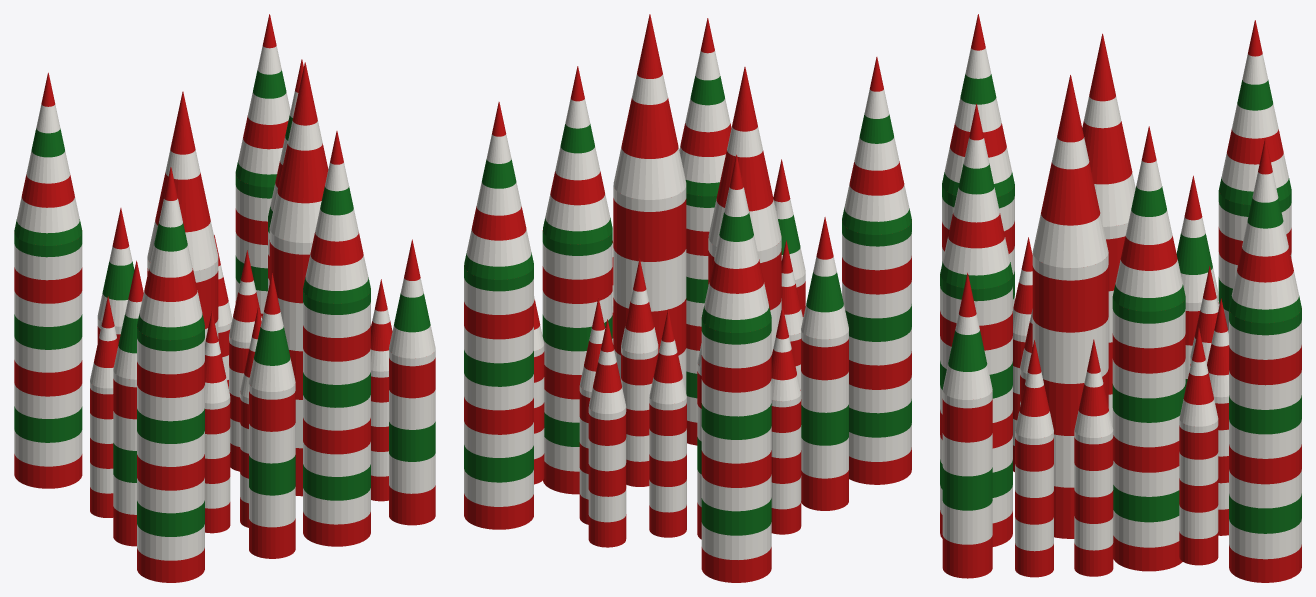
File: CandySpikeSetJoined.fbx
The picture shows the model from 3 angles, left to right: view 1: azimuth 30°, elevation 25°; view 2: azimuth 150°, elevation 25°; view 3: azimuth 270°, elevation 25°; orthographic projection. The views are drawn at different scales.
Visible parts, largest first — view 1: BabyCandySpike; view 2: BabyCandySpike; view 3: BabyCandySpike.
Boxes of the visible parts, <box> form: BabyCandySpike: <box>14,14,435,582</box>; BabyCandySpike: <box>464,14,911,582</box>; BabyCandySpike: <box>940,14,1301,582</box>.
Bounding box in the file's own units: 396 × 563 × 397.
